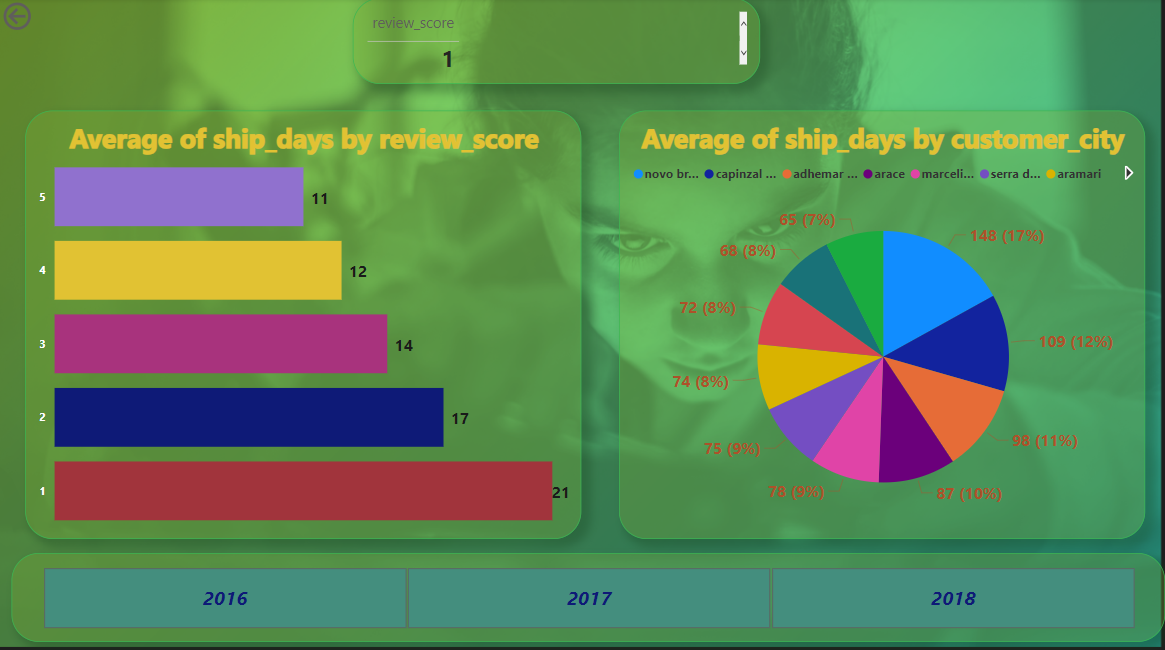

The page's visual inventory and layout, read from the dashboard file:
{"tool":"tableau","page":{"name":"Dashboard 4","canvas":[1000,1000],"units":"permille","ordinal":3},"visuals":[{"type":"blank","box":[0,0,1000,17.6]},{"type":"filter","title":"KPI4.1","param":"[federated.127wc8918z9zki14frpf21odrj9i].[yr:order_purchase_timestamp:ok]","box":[898.6,9.4,96.6,150.4]},{"type":"dashboard-object","box":[0,17.6,60.4,117.5]},{"type":"image","param":"C:/Users/afrin/Downloads/pricepay.jpg","box":[60.4,17.6,70,117.5]},{"type":"text","box":[130.3,17.6,713.3,117.5]},{"type":"dashboard-object","box":[843.7,17.6,156.3,117.5]},{"type":"blank","box":[0,135.1,1000,17.6]},{"type":"worksheet","title":"KPI4.1","mark":"Automatic","box":[0,152.8,1000,423]},{"type":"worksheet","title":"KPI-4.2","mark":"Automatic","rows":["product_category_name"],"cols":["payment_value"],"box":[0,575.8,500.3,424.2]},{"type":"worksheet","title":"KPI-4.3","mark":"Bar","cols":["order_purchase_timestamp"],"box":[500.3,575.8,499.7,424.2]}]}

Visuals, with their boxes on the dashboard's canvas, which has no fixed pixel size, in thousandths of its width and height (x1, y1, x2, y2). These are canvas units, not pixel positions in the 1165x650 screenshot, which may show the page scaled, cropped or inside an application window:
blank: l=0, t=0, r=1000, b=18
"KPI4.1" filter: l=899, t=9, r=995, b=160
dashboard-object: l=0, t=18, r=60, b=135
image: l=60, t=18, r=130, b=135
text: l=130, t=18, r=844, b=135
dashboard-object: l=844, t=18, r=1000, b=135
blank: l=0, t=135, r=1000, b=153
"KPI4.1" worksheet: l=0, t=153, r=1000, b=576
"KPI-4.2" worksheet: l=0, t=576, r=500, b=1000
"KPI-4.3" worksheet (Bar marks): l=500, t=576, r=1000, b=1000
